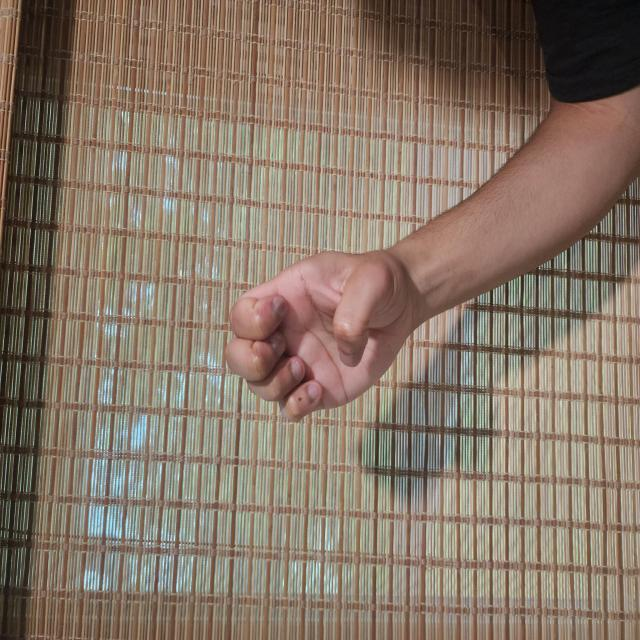E: (158, 297, 305, 558)
